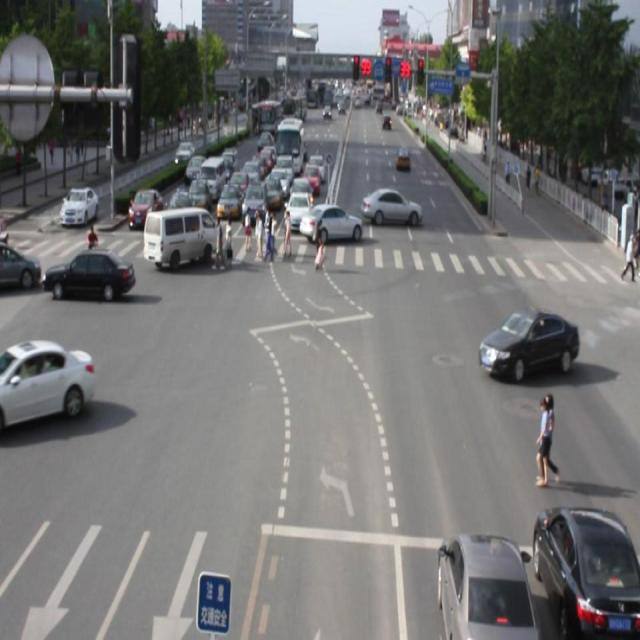car: (523, 495, 640, 640), (429, 524, 530, 640), (1, 339, 96, 427), (477, 305, 578, 378), (43, 248, 136, 302)
truck: (143, 202, 222, 266)
